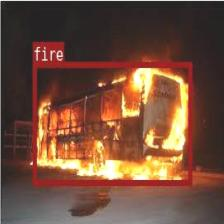fire: (32, 61, 192, 184)
